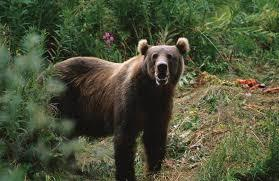bear: (35, 34, 194, 179)
